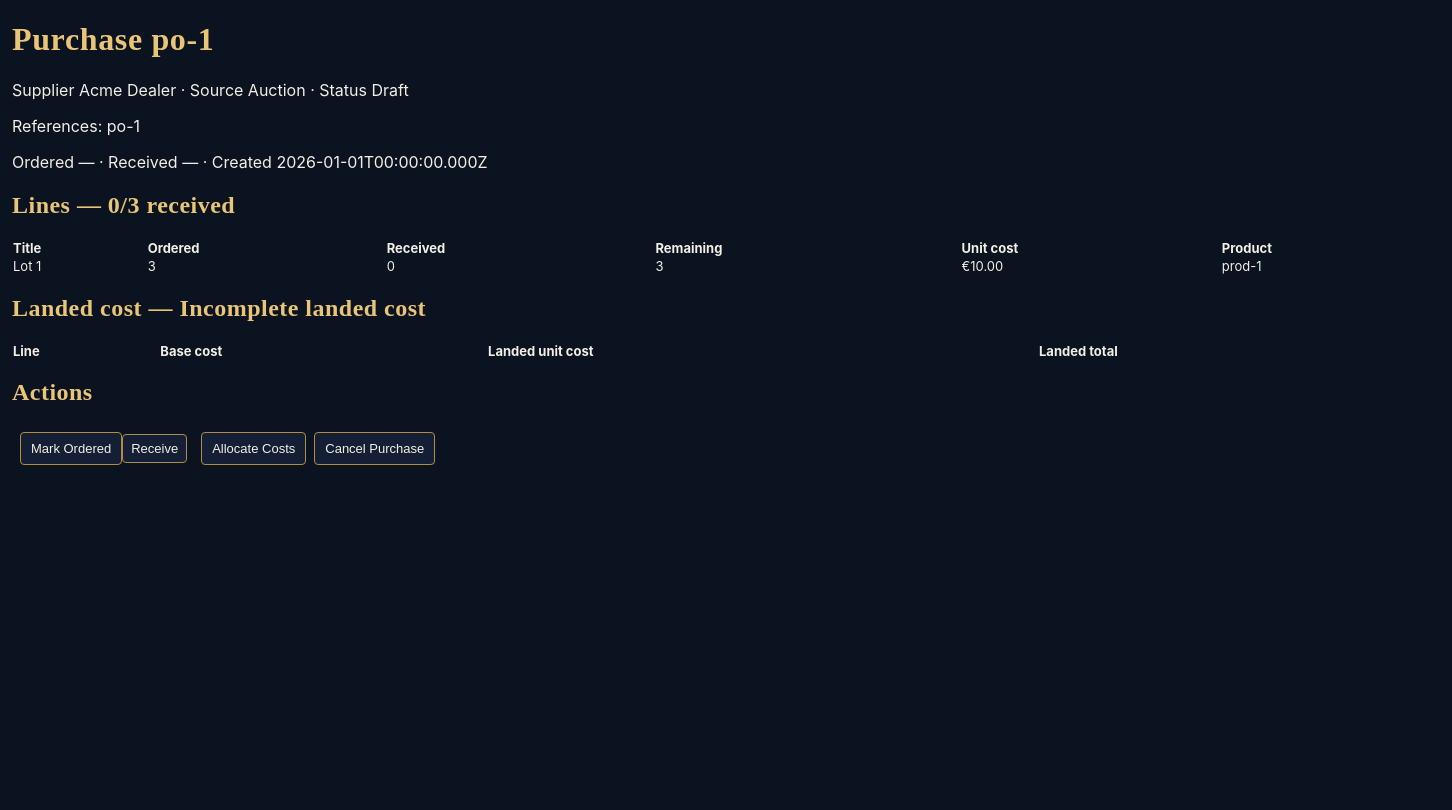
Purchase detail lifecycle actions (Sprint 57B) › caps the receive quantity input at the remaining quantity and rejects an over-cap submission client-side
Check: the heading "Purchase po-1" is shown, box 12,21 -> 214,57
Step 1. Click the button "Receive" → coordinates (155, 449), box 122,434 -> 187,463
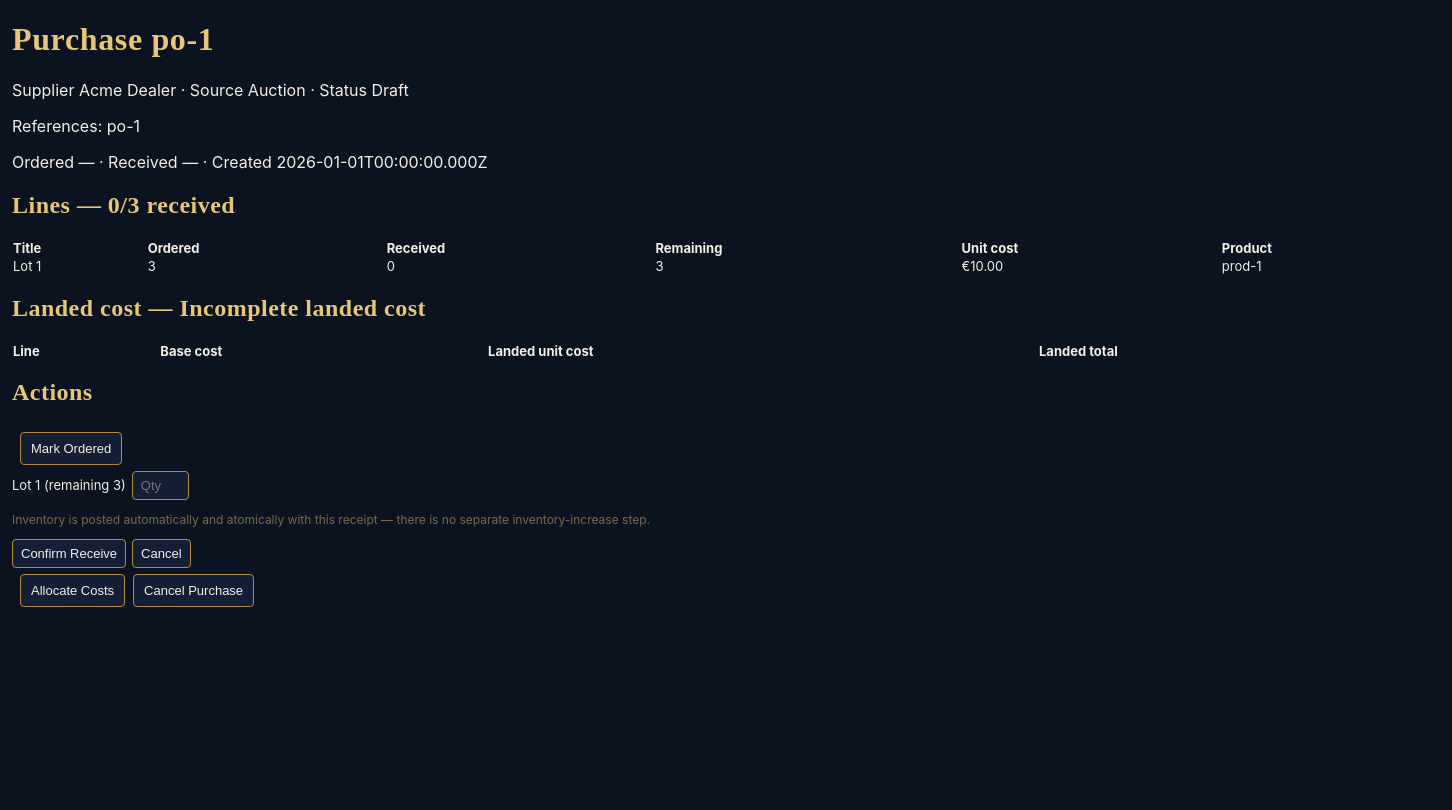
Step 2. Type "99" into the number field with placeholder "Qty received" → coordinates (160, 486), box 132,471 -> 189,500
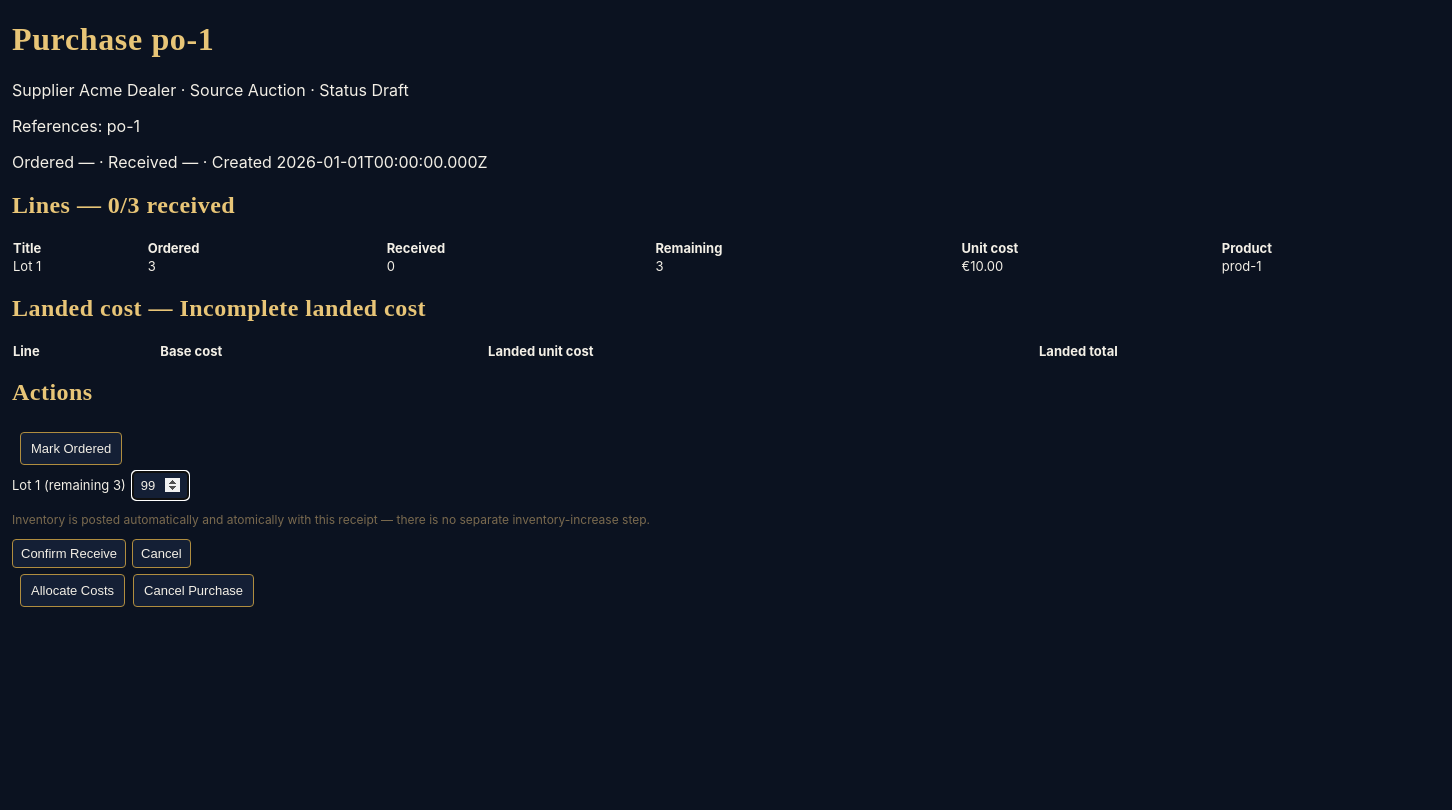
Step 3. Click the button "Confirm Receive" → coordinates (69, 554), box 12,539 -> 126,568
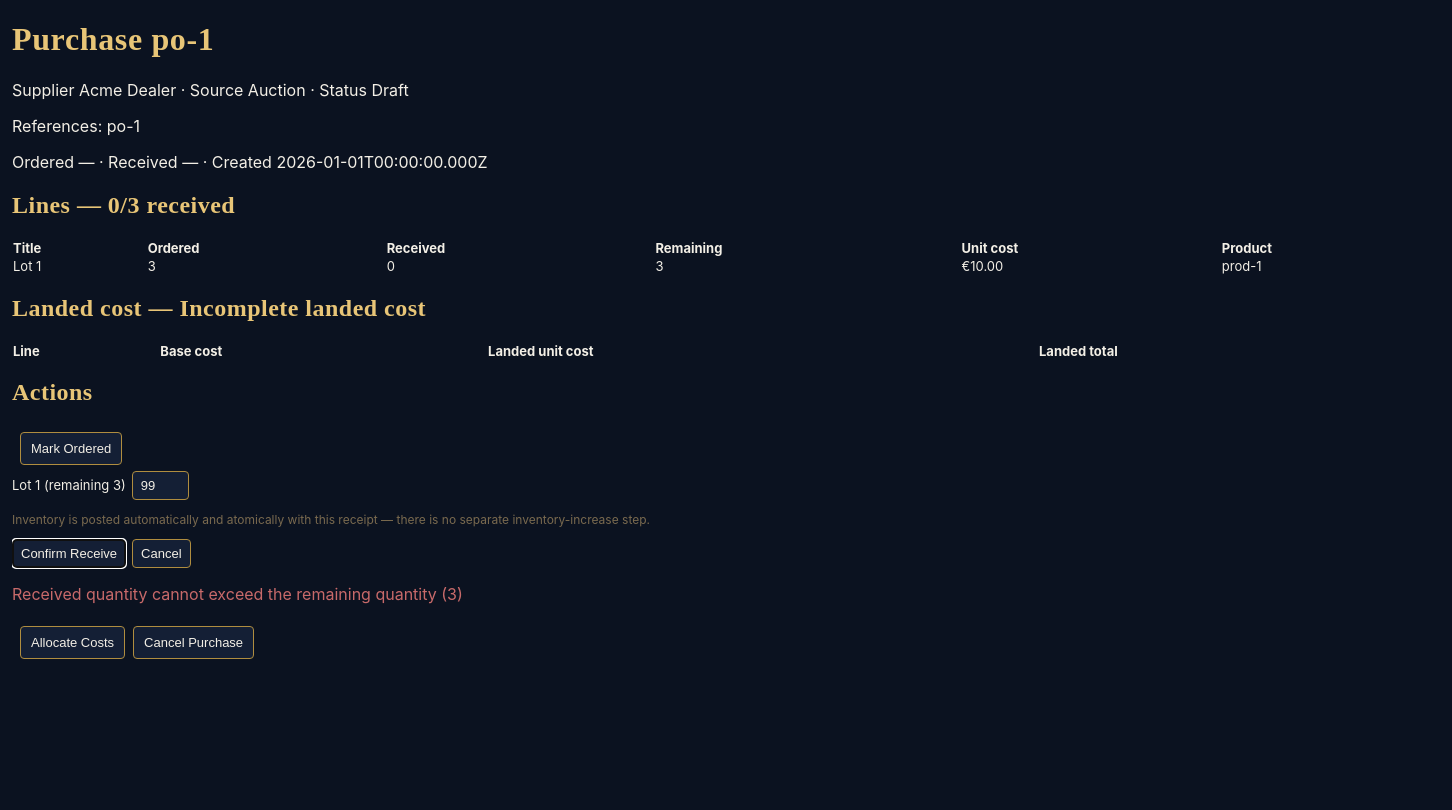
Check: the text "Received quantity cannot exceed the remaining quantity (3)" is shown, box 12,584 -> 463,604
